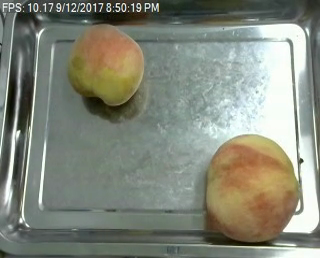Peach: (205, 131, 300, 243), (67, 23, 144, 106)
